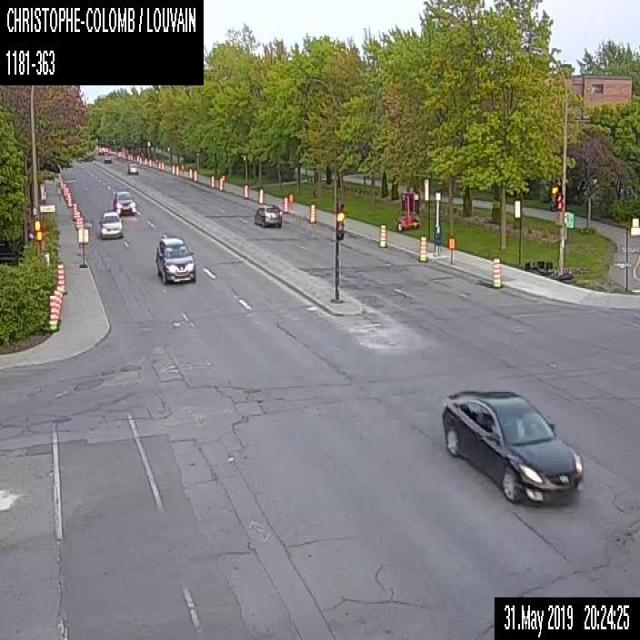construction: (394, 190, 420, 230), (56, 261, 66, 294), (46, 295, 55, 329), (492, 257, 501, 287), (378, 221, 387, 248), (418, 235, 427, 261), (54, 289, 61, 321), (52, 290, 58, 326), (308, 201, 316, 223), (70, 200, 76, 220), (74, 210, 80, 228), (258, 188, 264, 203), (283, 195, 288, 212), (210, 173, 215, 188), (243, 183, 248, 197), (67, 192, 71, 206), (64, 186, 68, 200), (62, 182, 66, 196), (218, 177, 222, 190), (193, 170, 197, 182), (175, 164, 179, 175), (188, 168, 192, 178), (171, 163, 174, 174), (126, 152, 130, 160), (160, 160, 163, 170), (80, 215, 82, 228), (158, 160, 160, 170), (144, 156, 146, 165), (139, 155, 141, 164), (136, 154, 138, 162), (149, 158, 151, 166), (130, 153, 132, 160)
vehicle: (438, 388, 584, 504), (154, 235, 196, 285), (253, 201, 282, 227), (99, 210, 122, 240), (112, 190, 136, 214), (126, 162, 138, 174), (102, 156, 111, 163)
